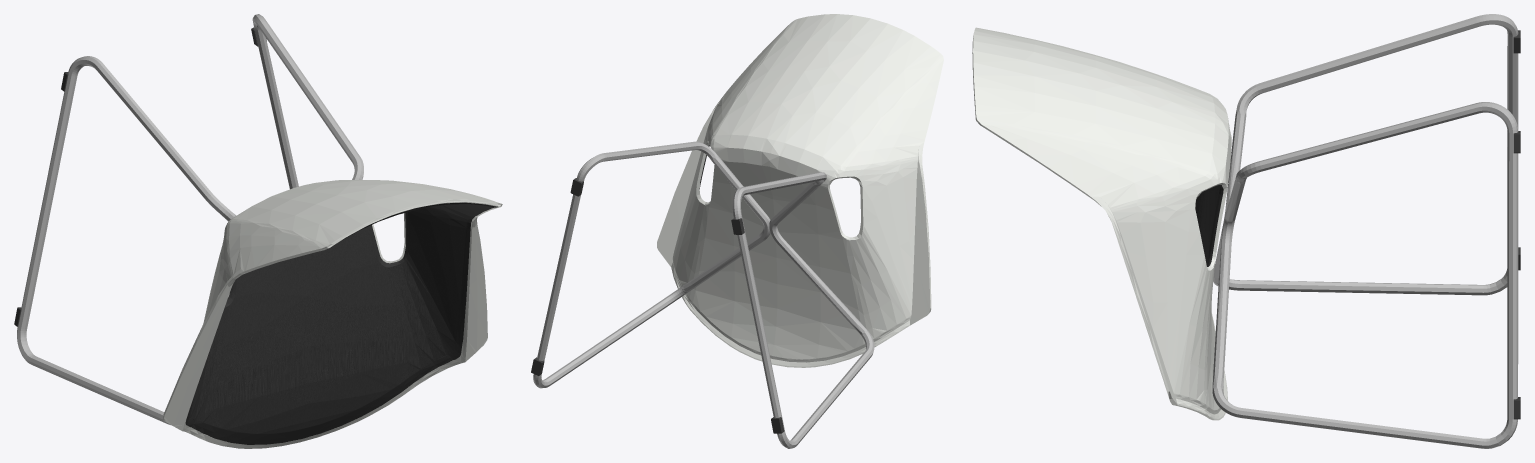
The model's file is viva 2.obj.
The picture shows the model from 3 angles, left to right: view 1: azimuth 30°, elevation 25°; view 2: azimuth 150°, elevation 25°; view 3: azimuth 270°, elevation 25°; orthographic projection. The views are drawn at different scales.
Parts seen in each view (by area): view 1: mesh_3, mesh_2, mesh_0; view 2: mesh_2, mesh_0, mesh_1; view 3: mesh_2, mesh_0, mesh_3, mesh_1.
Boxes of the visible parts, x1,y1,x2,y2 form: mesh_3: (185,202,497,444); mesh_2: (163,180,502,448); mesh_0: (17,14,363,424); mesh_2: (657,14,943,367); mesh_0: (533,141,874,448); mesh_1: (531,178,784,433); mesh_2: (972,27,1231,420); mesh_0: (1212,14,1518,448); mesh_3: (1195,185,1223,266); mesh_1: (1513,30,1520,419).
Bounding box in the file's own units: 0.5954 × 0.5675 × 0.8091.
4 materials, 2 textured.
